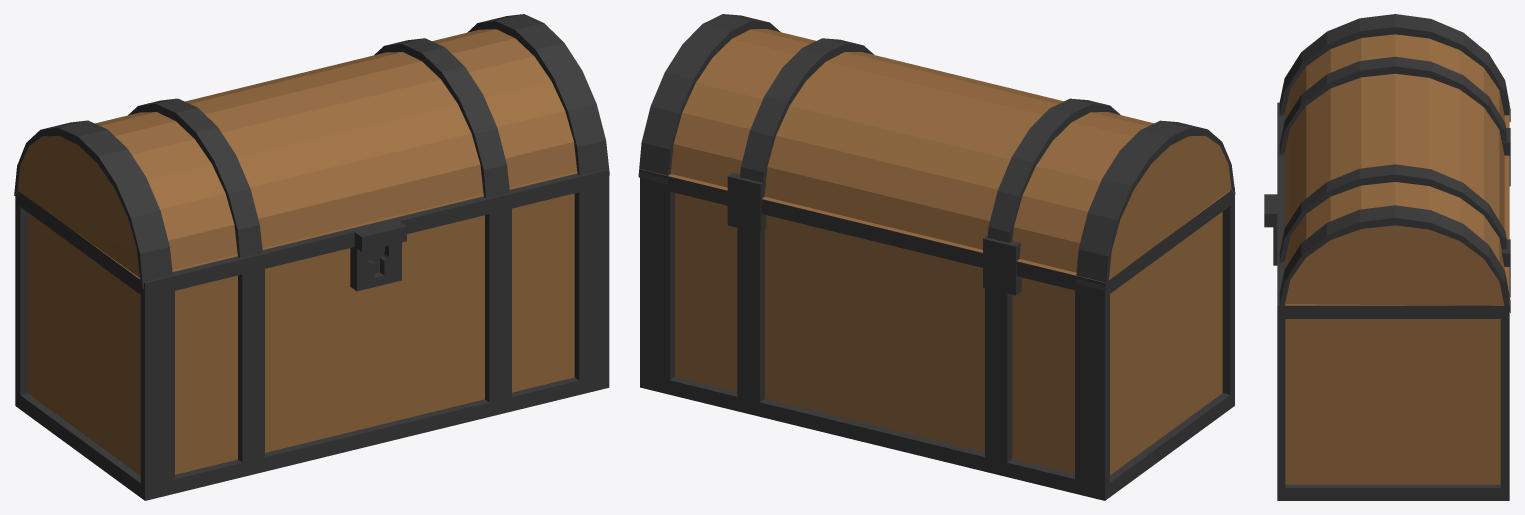
File: Chest SOH animation.fbx
3 renders of one model, left to right at view 1: azimuth 30°, elevation 25°; view 2: azimuth 150°, elevation 25°; view 3: azimuth 270°, elevation 25°, orthographic. The views are drawn at different scales.
Parts seen in each view (by area): view 1: pCube1, pCylinder1; view 2: pCube1, pCylinder1, pCube3, pCube2; view 3: pCylinder1, pCube1.
Part boxes in pixels (x1,y1,x2,y2): pCube1: (15,169,609,500); pCylinder1: (14,14,609,288); pCube1: (640,169,1234,500); pCylinder1: (638,14,1235,290); pCube3: (983,235,1021,295); pCube2: (727,173,766,233); pCylinder1: (1278,14,1510,312); pCube1: (1264,102,1509,500).
Size of the model in its own units: 5.5 by 3.56 by 2.8.
